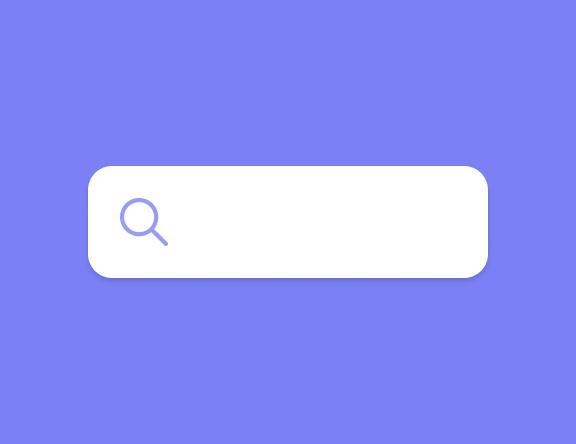icon: (121, 196, 172, 253)
input: (89, 163, 491, 281)
